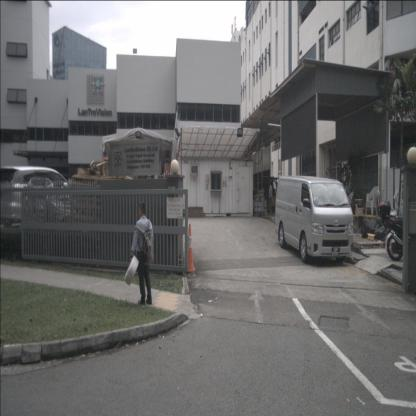cone: (184, 224, 195, 273)
